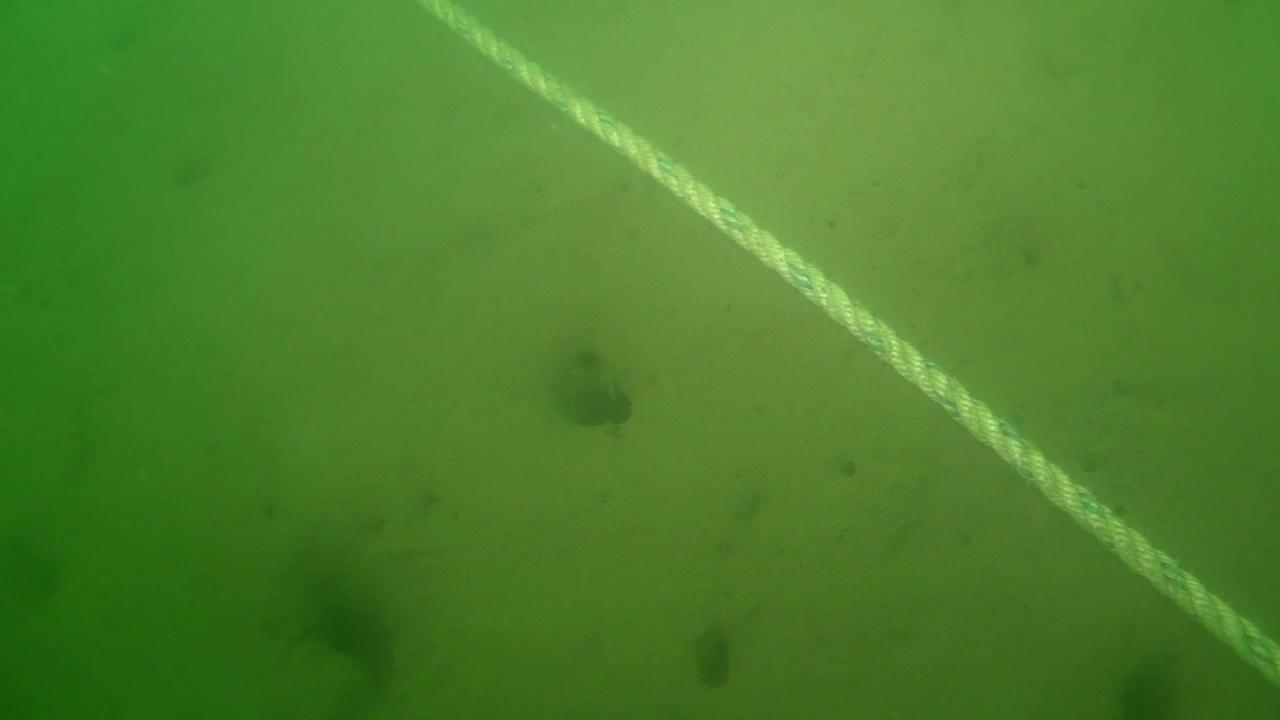rope: (413, 0, 1280, 684)
